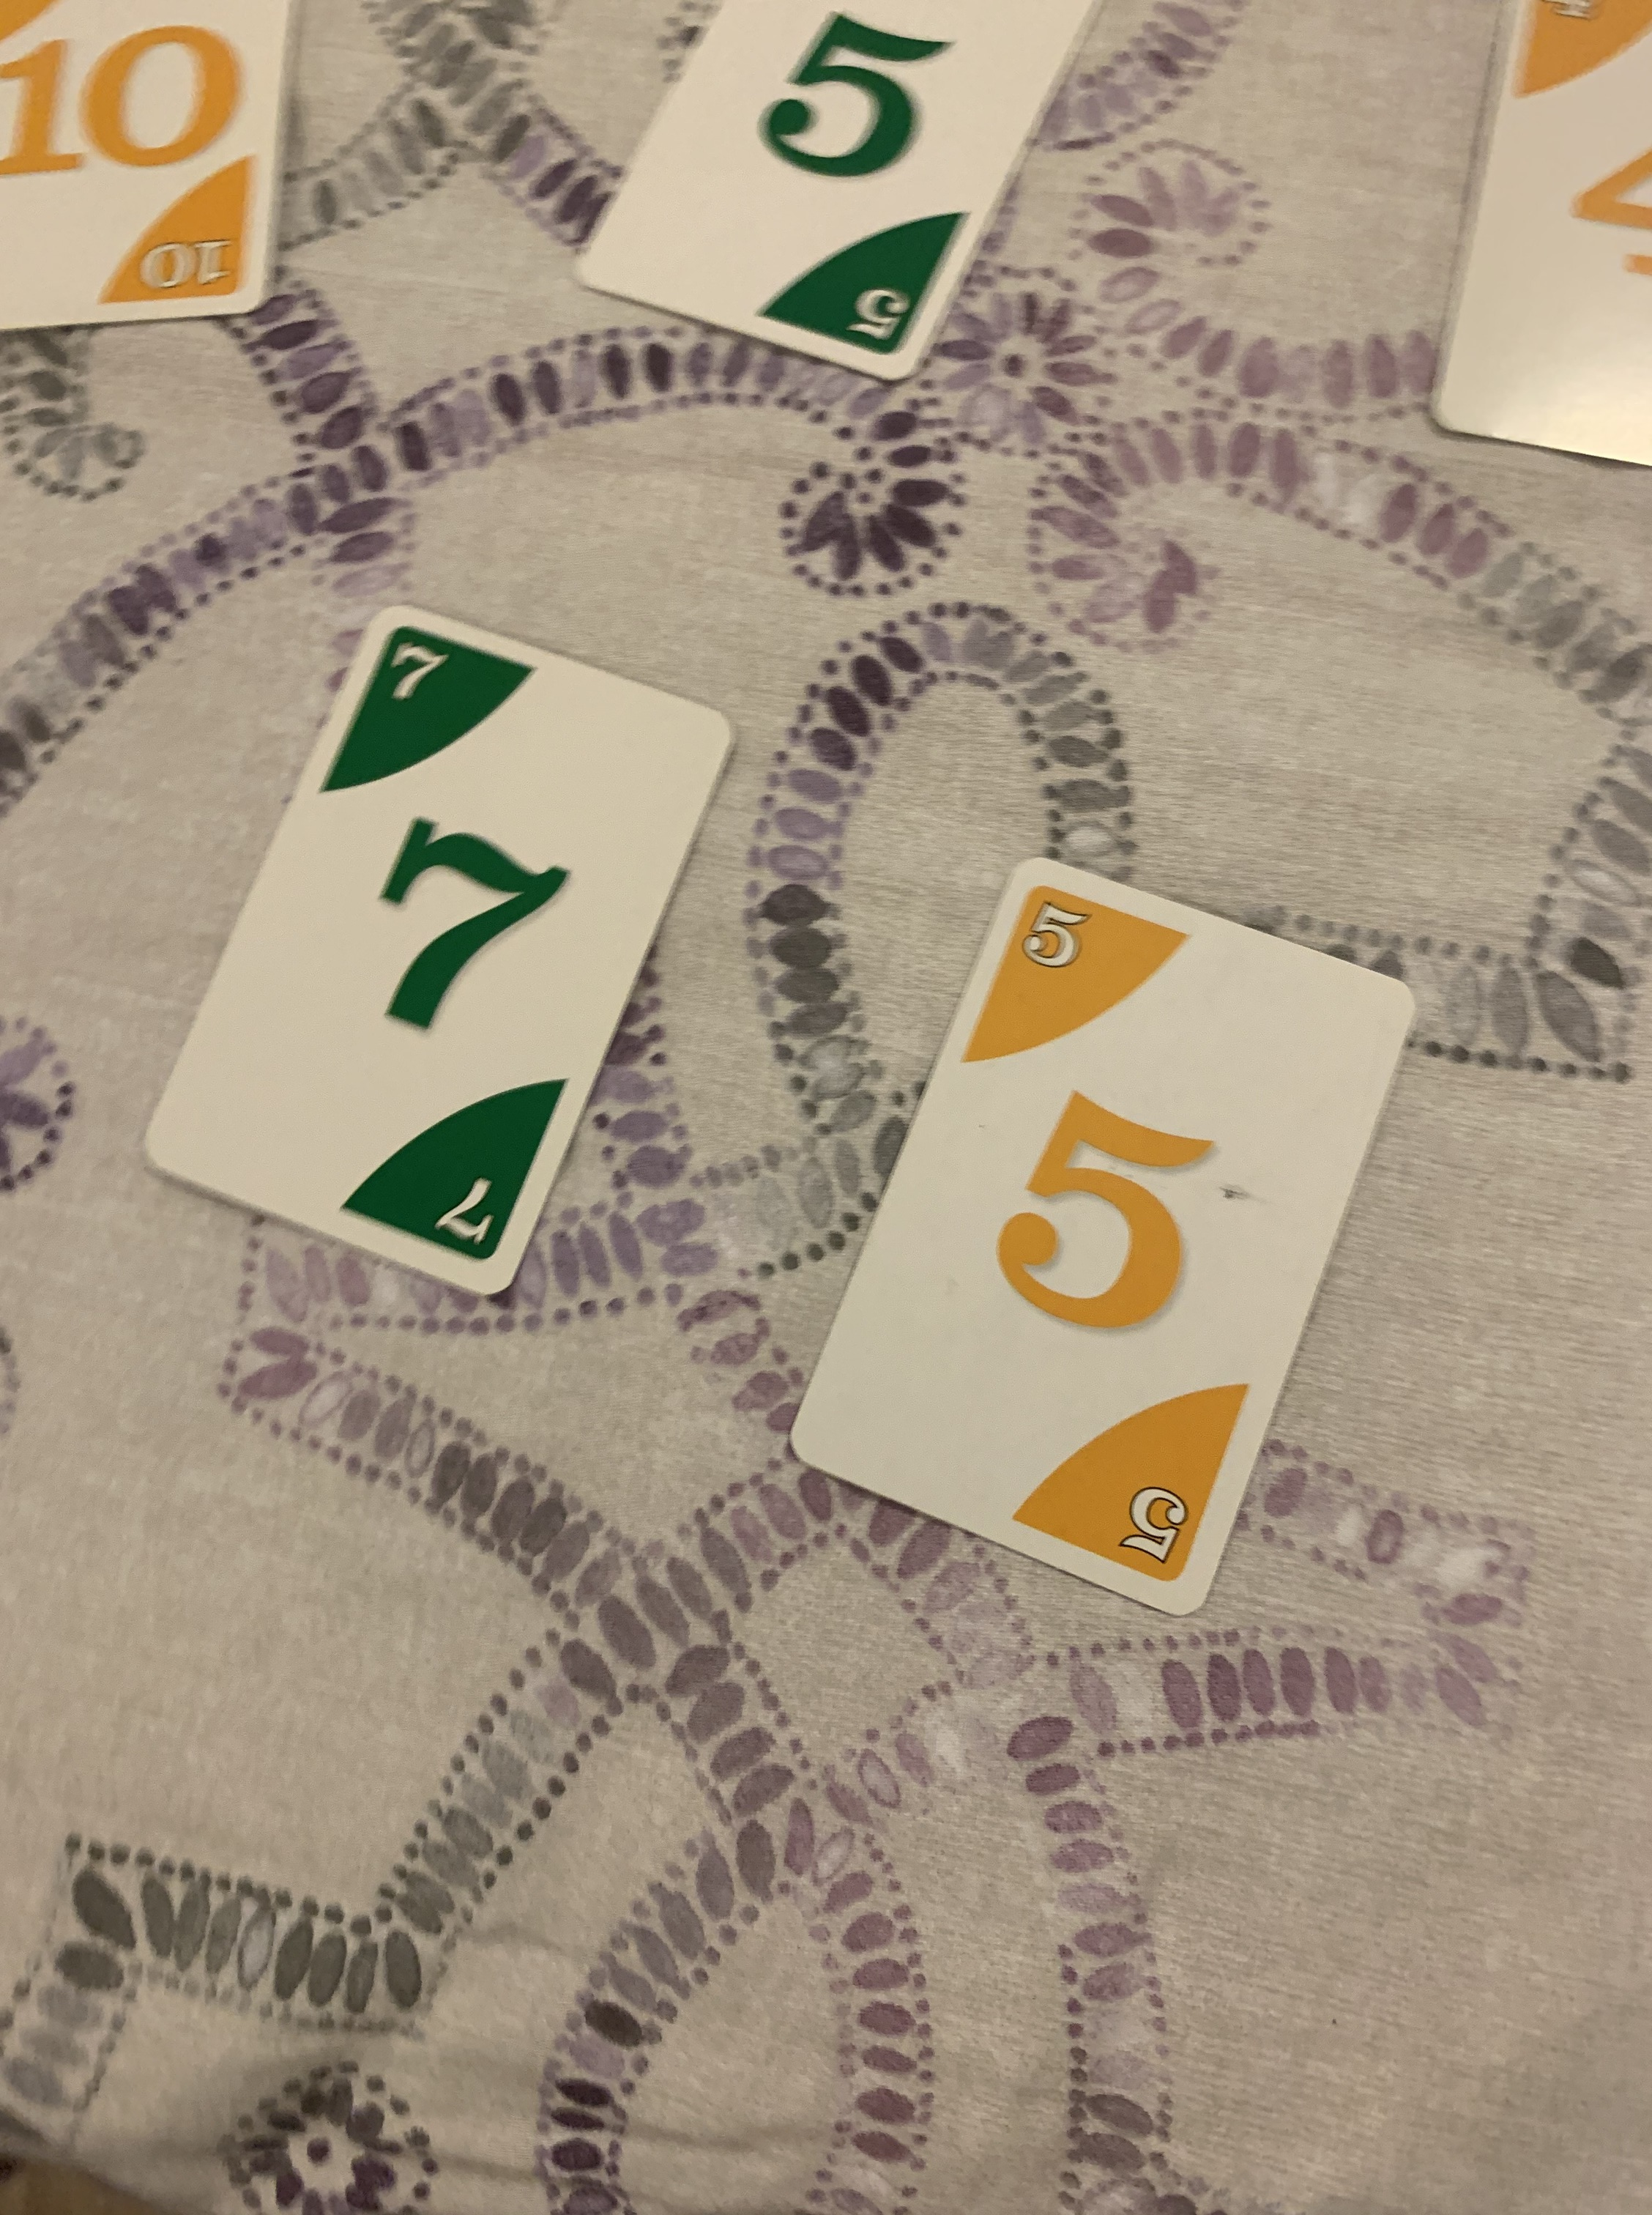five: (774, 852, 1418, 1618), (581, 0, 1111, 394)
seven: (139, 594, 731, 1298)
ten: (0, 5, 304, 344)
